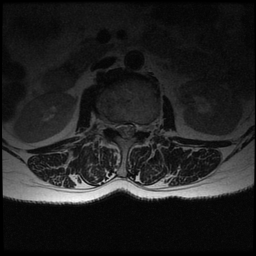CCS_stenosis: (122, 118, 130, 144)
LFS_normal: (138, 118, 144, 135)
LLS_normal: (131, 117, 138, 141)
RFS_normal: (109, 117, 116, 134)
RLS_normal: (116, 117, 122, 140)
